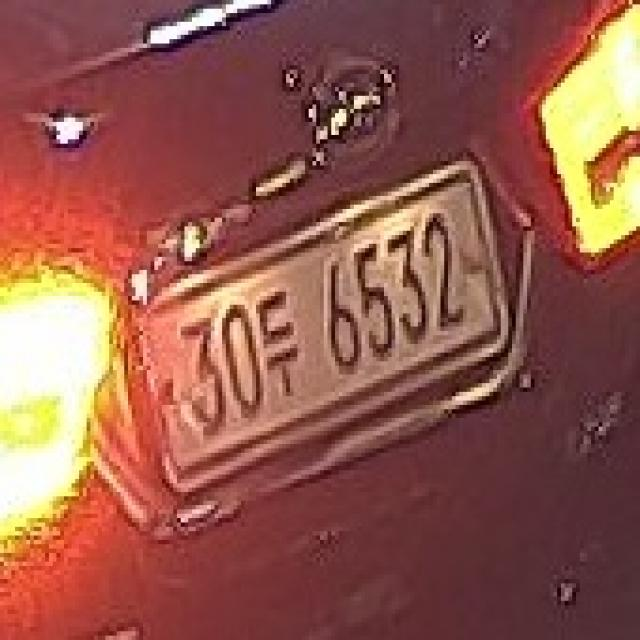0: (218, 305, 268, 418), (222, 301, 264, 414)
2: (426, 213, 470, 331)
3: (177, 318, 230, 440), (388, 226, 429, 344)
5: (354, 244, 399, 357)
6: (320, 262, 361, 374)
du: (256, 288, 305, 400)
license_plate: (124, 157, 516, 500)
